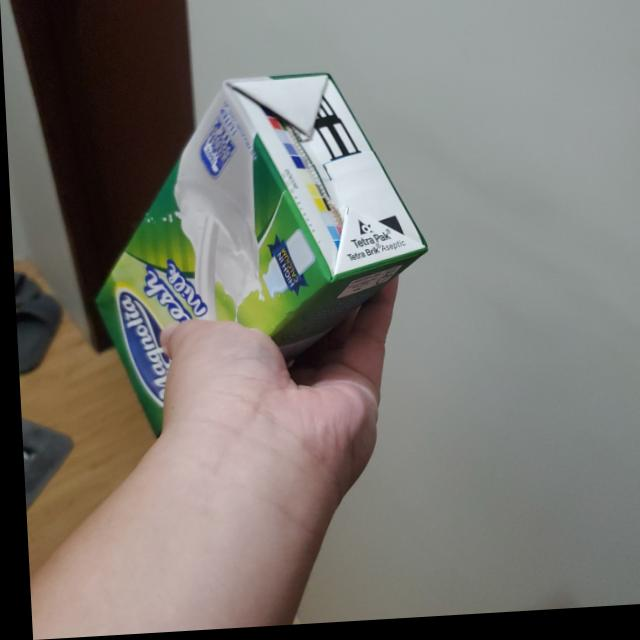milk: (89, 69, 431, 443)
